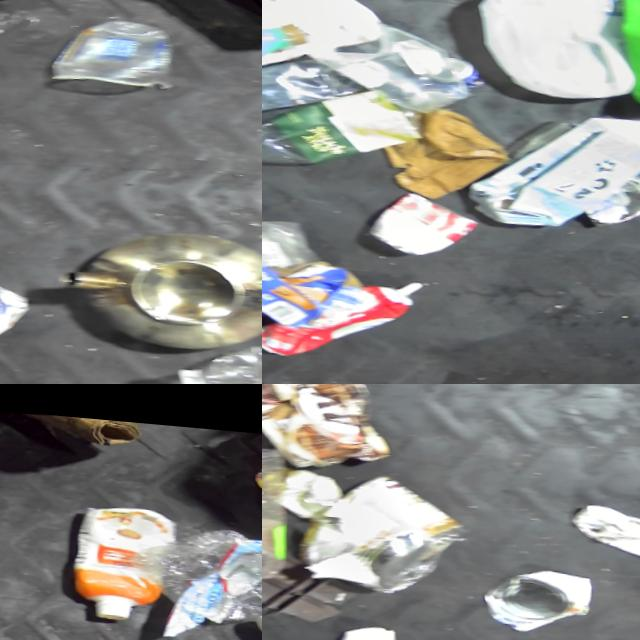can: (485, 555, 599, 631), (368, 180, 483, 254), (432, 45, 489, 83)
milk_jug: (466, 93, 640, 226), (475, 0, 640, 94)
plastic_bottle: (157, 521, 262, 610)
